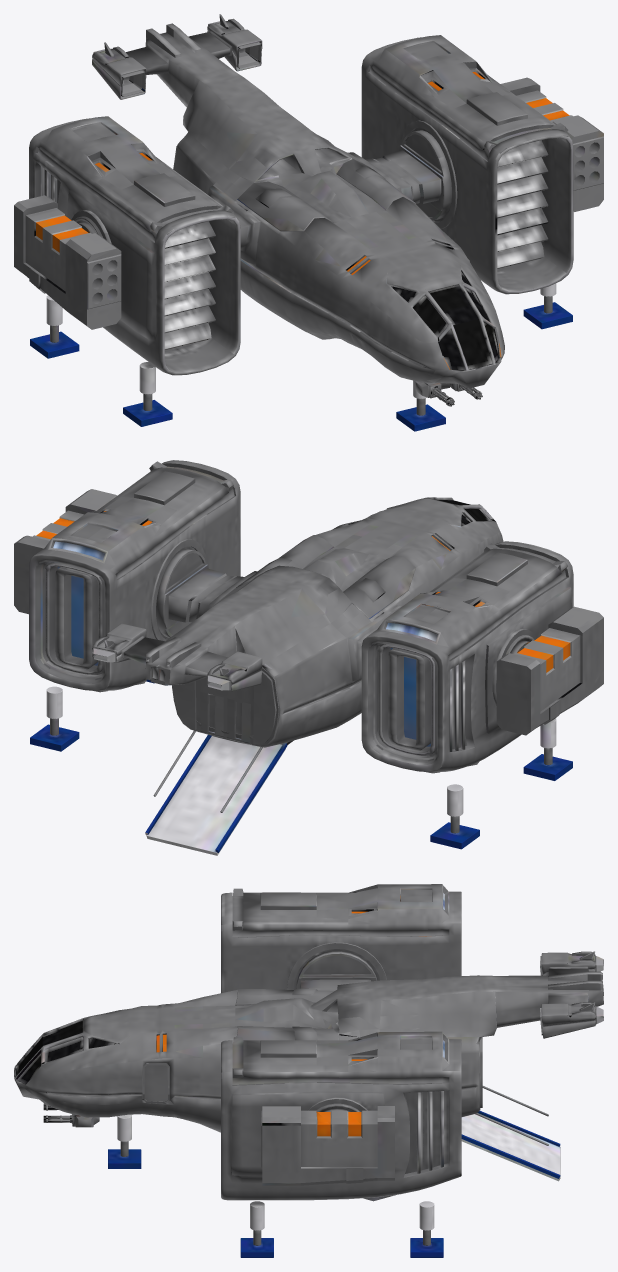
The model's file is receivership_shuttle.glb.
The picture shows the model from 3 angles, top to bottom: view 1: azimuth 30°, elevation 25°; view 2: azimuth 150°, elevation 25°; view 3: azimuth 270°, elevation 25°; orthographic projection. The views are drawn at different scales.
Visible parts, largest first — view 1: receivership_shuttle; view 2: receivership_shuttle; view 3: receivership_shuttle.
Part boxes in pixels (<box>): receivership_shuttle: <box>14,14,603,431</box>; receivership_shuttle: <box>14,460,603,855</box>; receivership_shuttle: <box>14,884,603,1257</box>.
Size of the model in its own units: 14.83 by 5.92 by 16.
3 materials, 3 textured.
